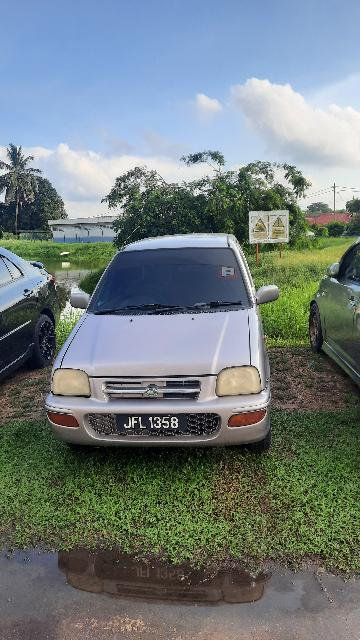License_Plate: (112, 407, 198, 441)
car: (48, 233, 282, 453)
